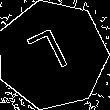L_SE: (26, 25, 78, 84)
